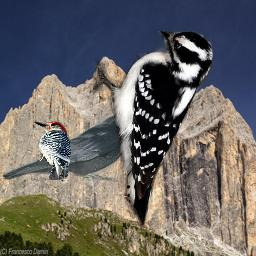Crow: (1, 113, 143, 182)
Woodpecker: (93, 31, 214, 233), (31, 118, 73, 180)
